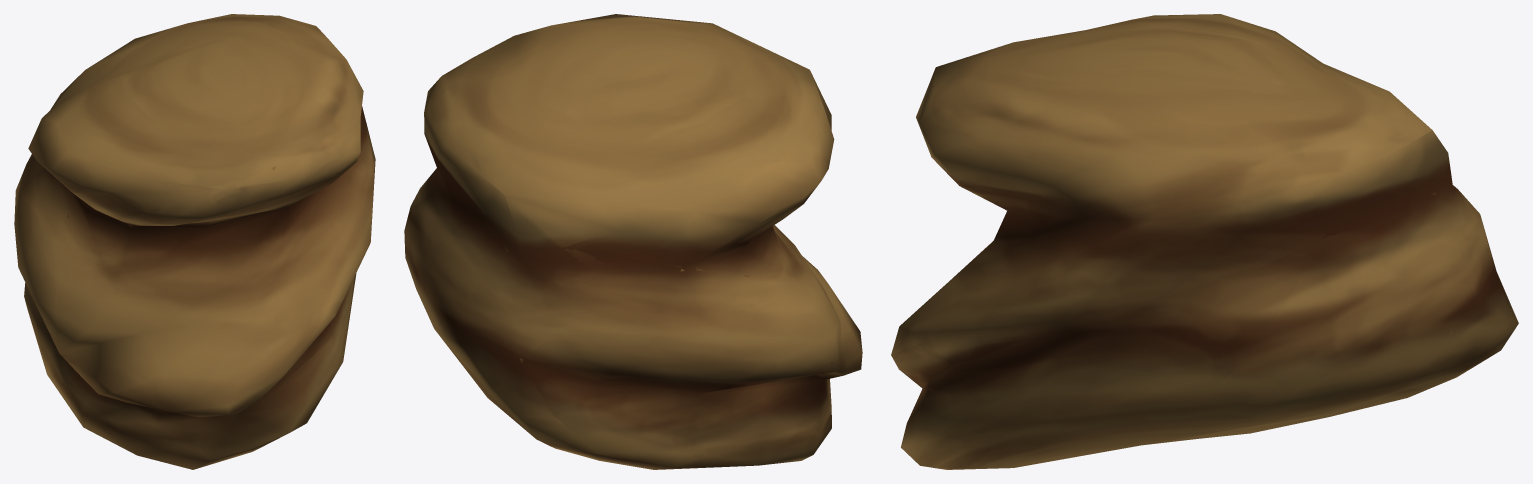
The model's file is Stone.fbx.
The picture shows the model from 3 angles, left to right: view 1: azimuth 30°, elevation 25°; view 2: azimuth 150°, elevation 25°; view 3: azimuth 270°, elevation 25°; orthographic projection. The views are drawn at different scales.
Visible parts, largest first — view 1: Cube; view 2: Cube; view 3: Cube.
Part boxes in pixels (<box>): Cube: <box>14,14,375,469</box>; Cube: <box>404,14,862,469</box>; Cube: <box>891,14,1518,469</box>.
Size of the model in its own units: 312 by 308 by 376.
